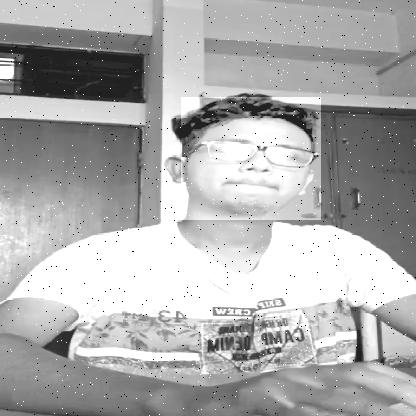Normal: (181, 97, 321, 220)
